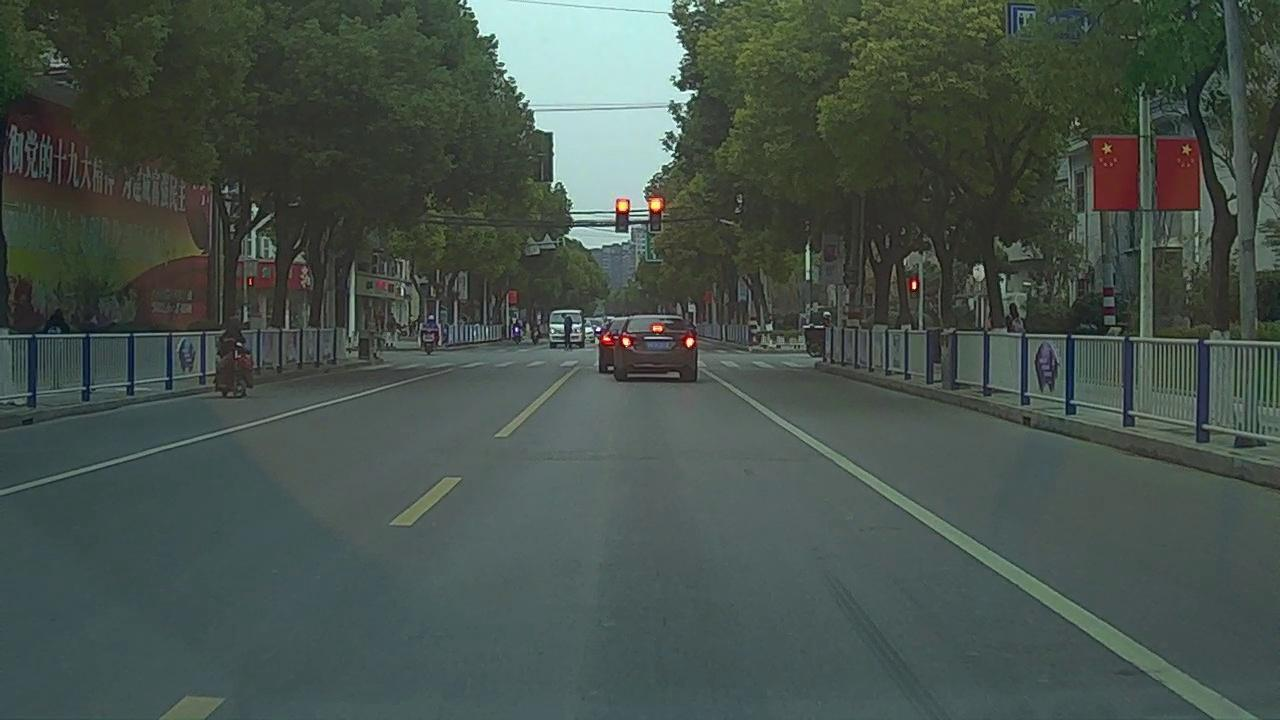traffic_light: (616, 198, 629, 230), (650, 200, 662, 230)
